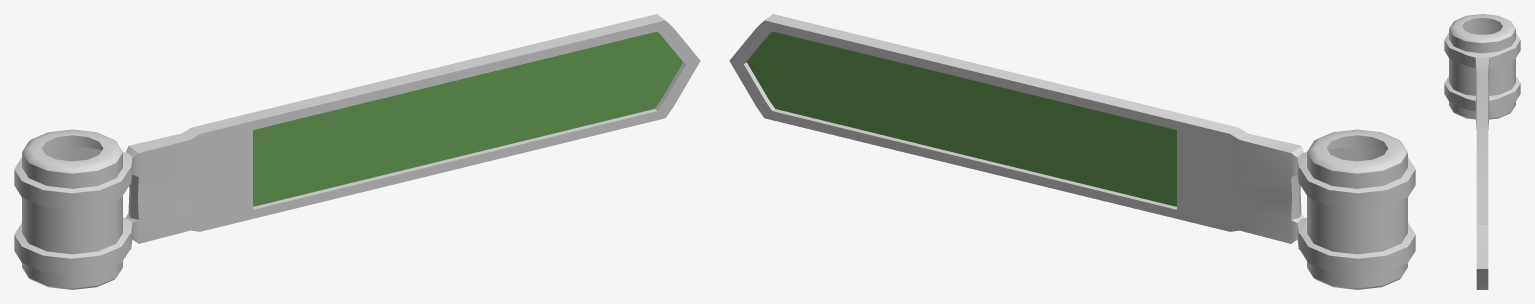
The model's file is SignArm.fbx.
The picture shows the model from 3 angles, left to right: view 1: azimuth 30°, elevation 25°; view 2: azimuth 150°, elevation 25°; view 3: azimuth 270°, elevation 25°; orthographic projection. The views are drawn at different scales.
Parts seen in each view (by area): view 1: SignAppendage; view 2: SignAppendage; view 3: SignAppendage.
Boxes of the visible parts, x1,y1,x2,y2 form: SignAppendage: (14,14,700,289); SignAppendage: (729,14,1415,289); SignAppendage: (1444,14,1520,289).
Size of the model in its own units: 158 by 27.59 by 23.43.
